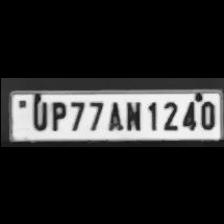0: (198, 96, 216, 128)
1: (143, 98, 159, 130)
2: (159, 97, 179, 130)
4: (178, 96, 196, 130)
7: (84, 97, 104, 130), (66, 97, 84, 130)
A: (104, 97, 122, 130)
N: (122, 97, 142, 130)
P: (47, 97, 67, 130)
U: (26, 97, 48, 130)
